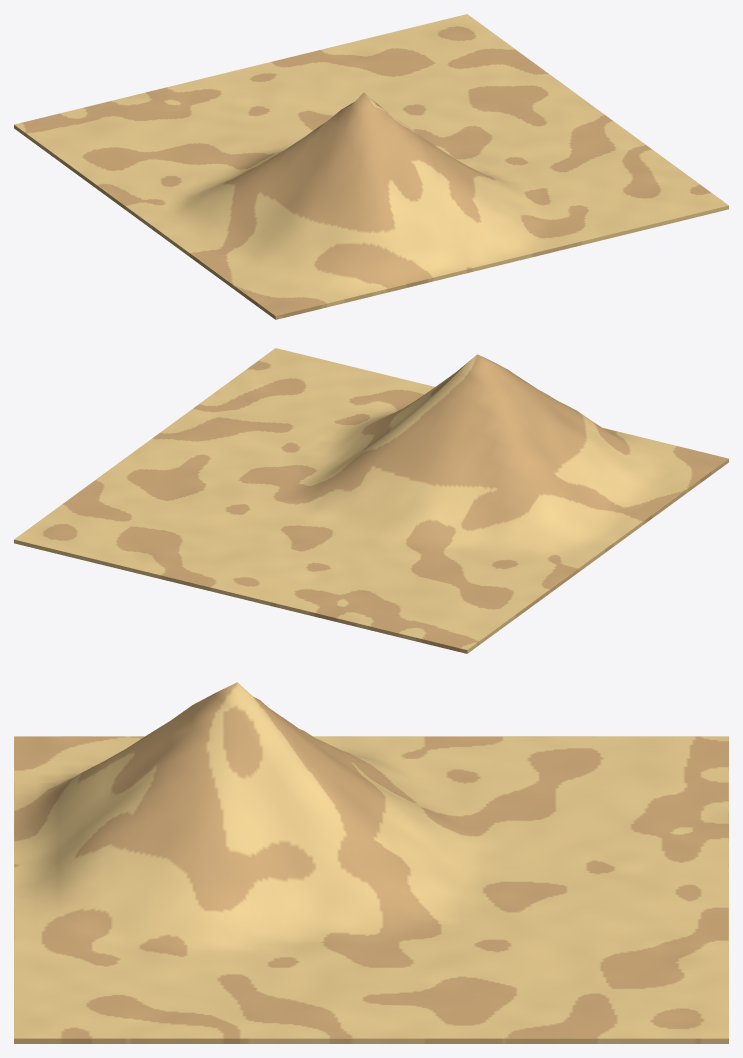
File: Desert_Mountains_07.obj
3 renders of one model, top to bottom at view 1: azimuth 30°, elevation 25°; view 2: azimuth 150°, elevation 25°; view 3: azimuth 270°, elevation 25°, orthographic. The views are drawn at different scales.
Bounding box in the file's own units: 10 × 2.67 × 10.
1 material, 1 textured.
